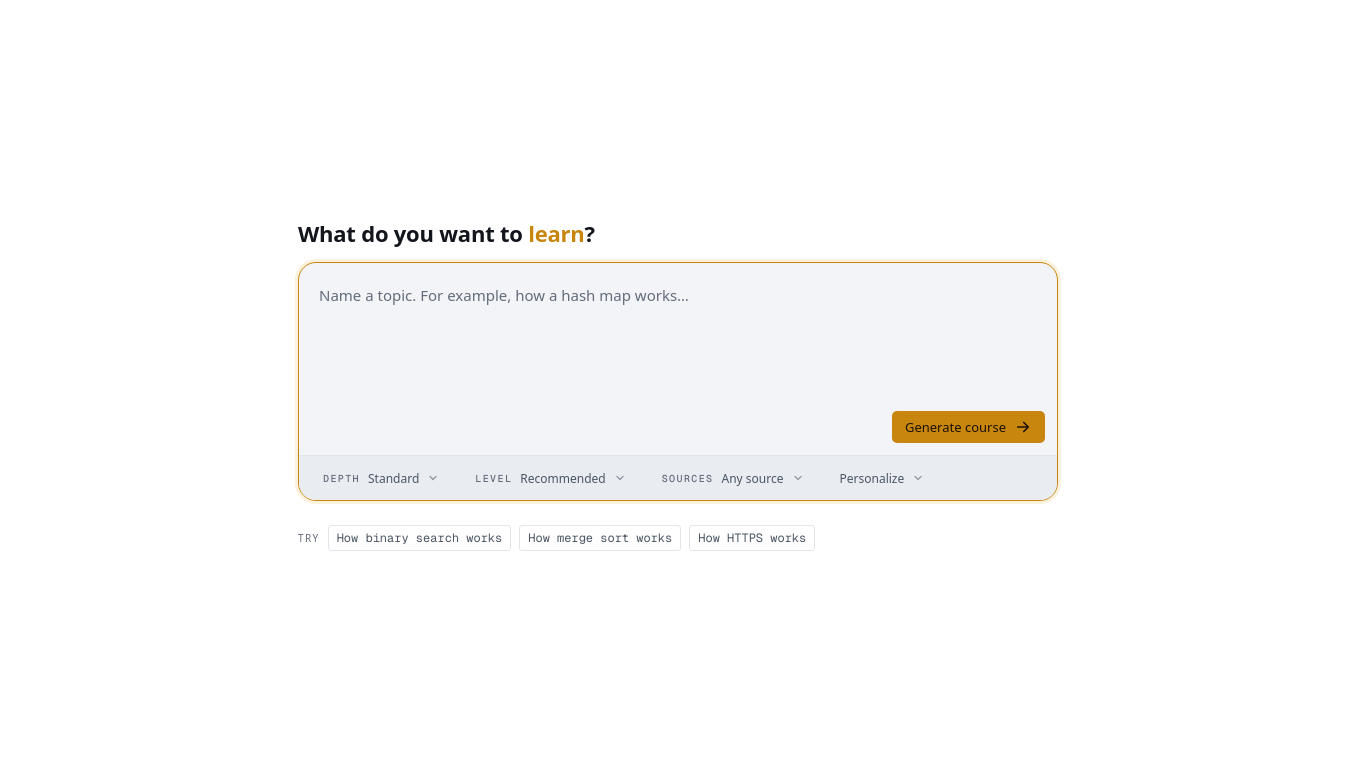
it: IdleCourseSetup › invalidates a loaded brief when the topic changes, so stale answers can't build
Type "english" into the text box labelled "topic" at (678, 337), box [299,263,1057,411]
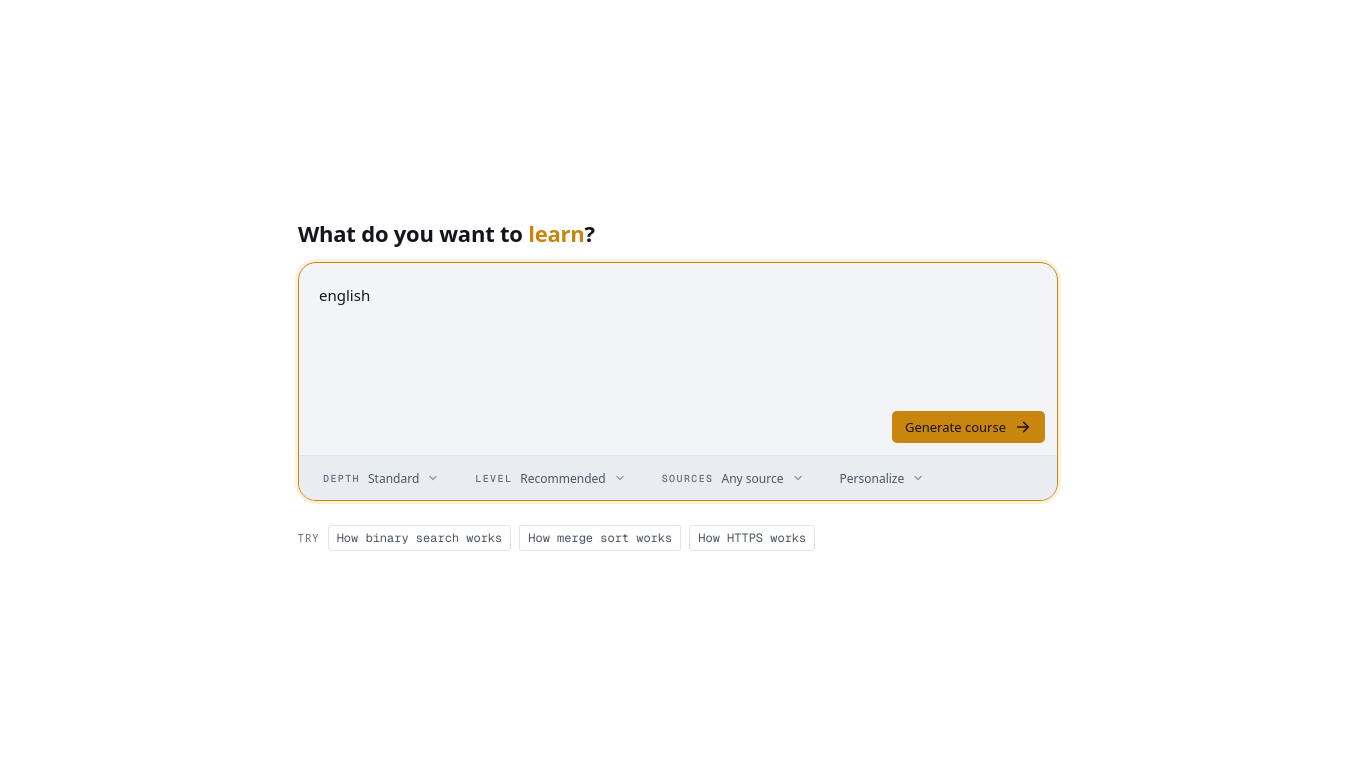
Click the button "Personalize" at (882, 478), box [828,464,936,492]
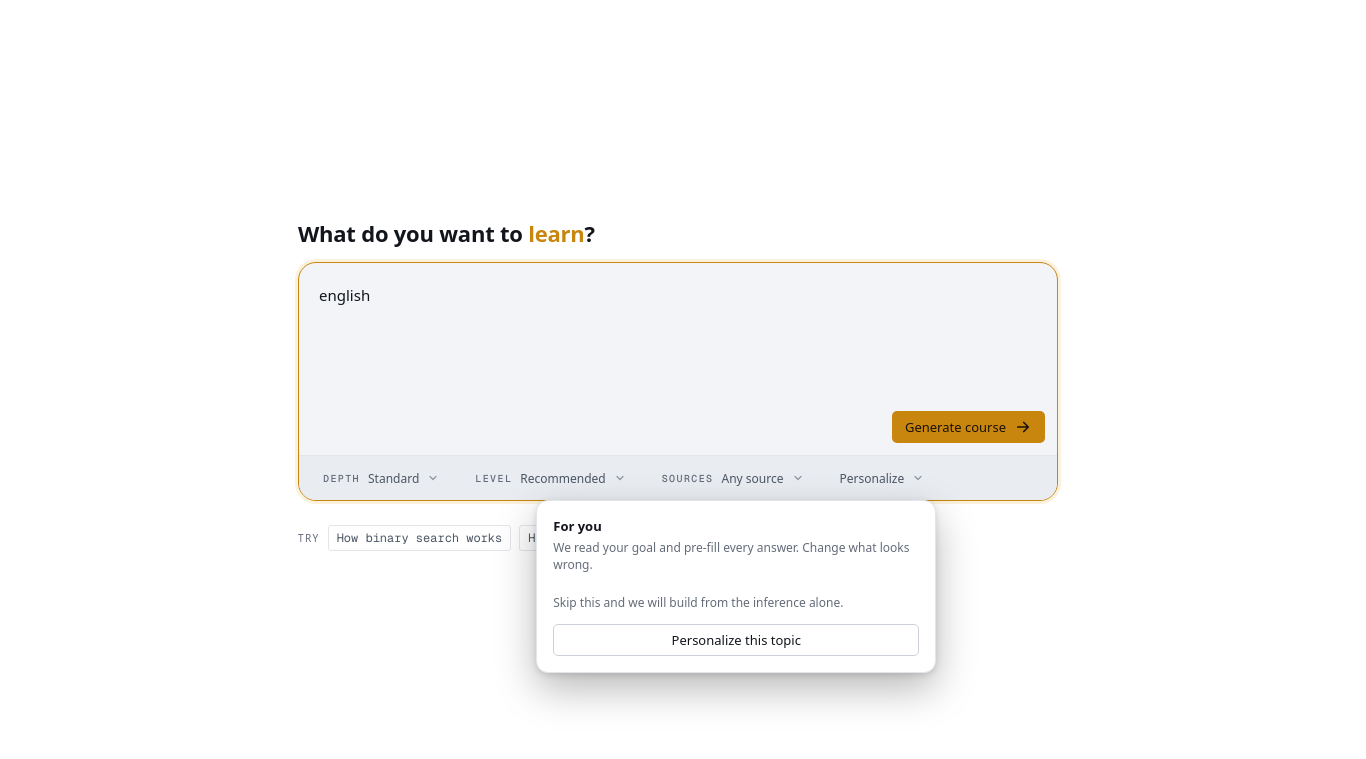
Click the button "Personalize this topic" at (736, 640), box [553,624,919,656]
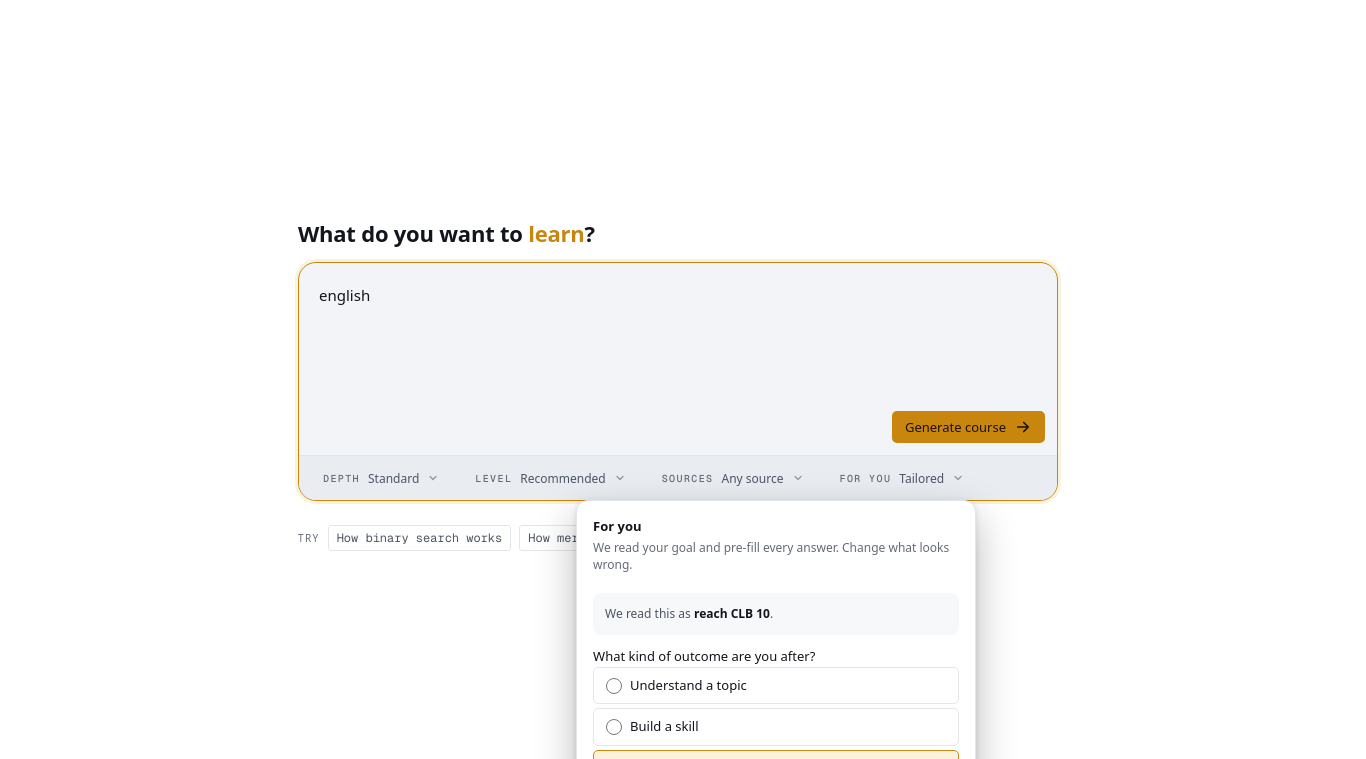
Now the text "reach CLB 10" is shown, box [694,605,770,622]
Replace the text in the text box named "topic" with "spanish" at (678, 337), box [299,263,1057,411]
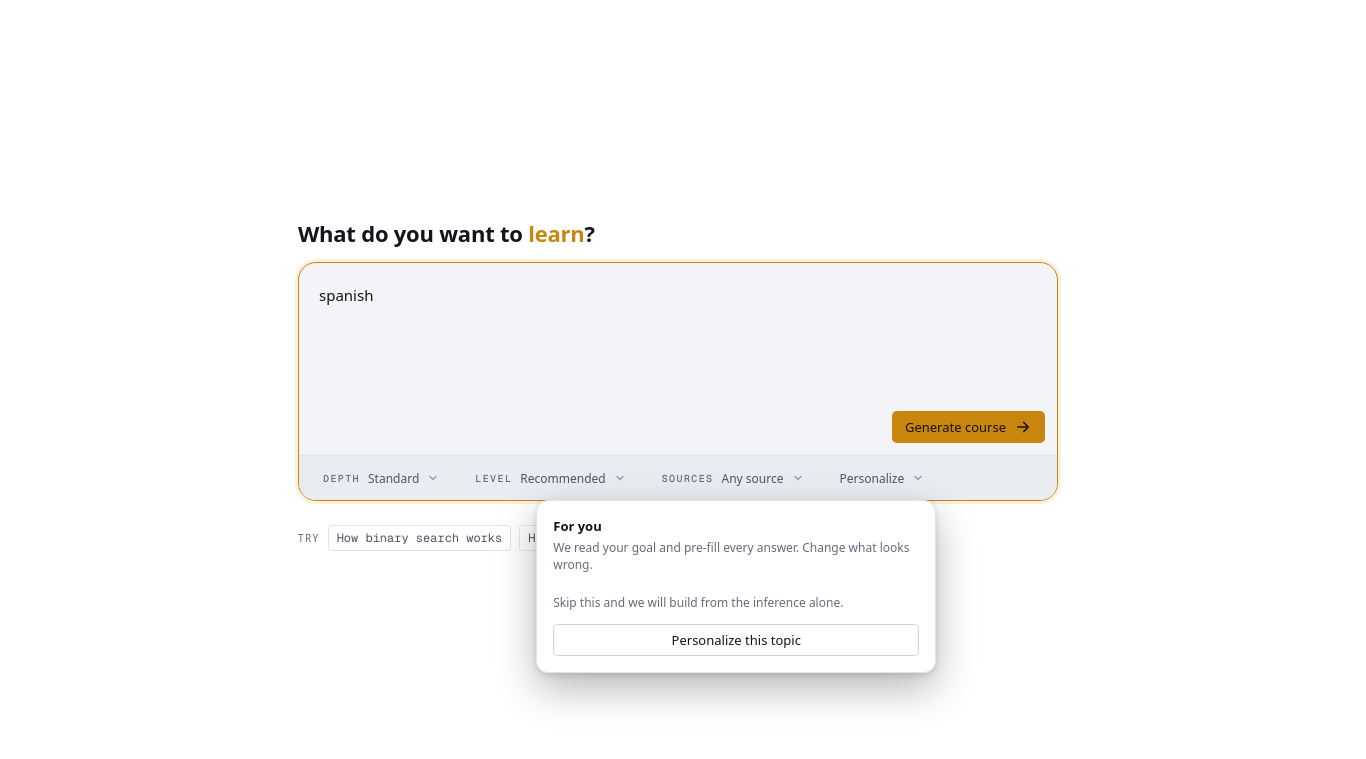
Now the text "reach CLB 10" is gone
Now the button "Personalize this topic" is shown, box [553,624,919,656]
